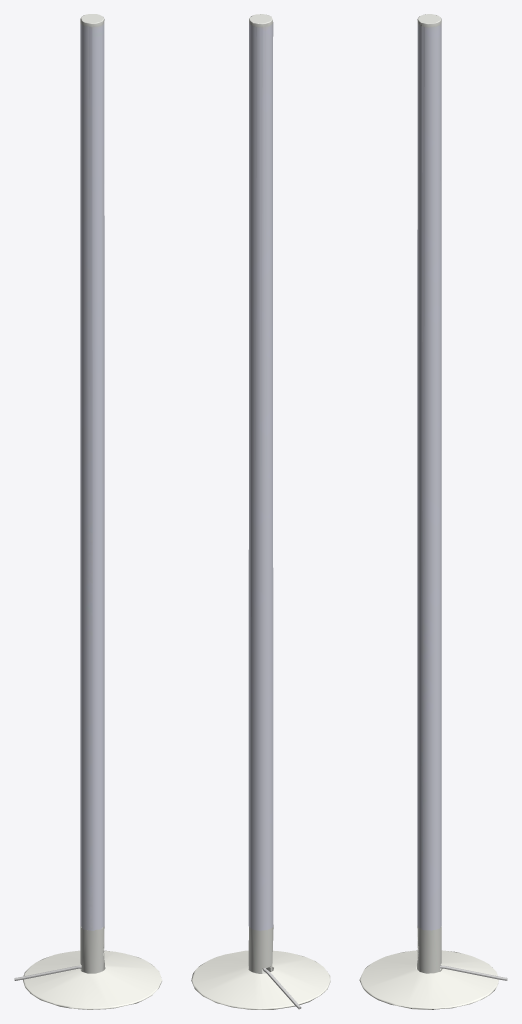
The model's file is forlig_lampa_podogowa_scienna_led_50592354.glb.
The picture shows the model from 3 angles, left to right: view 1: azimuth 90°, elevation 25°; view 2: azimuth 210°, elevation 25°; view 3: azimuth 270°, elevation 25°; orthographic projection.
Visible parts, largest first — view 1: forlig_lampa_podogowa_scienna_led_50592354; view 2: forlig_lampa_podogowa_scienna_led_50592354; view 3: forlig_lampa_podogowa_scienna_led_50592354.
Part boxes in pixels (x1=…): forlig_lampa_podogowa_scienna_led_50592354: x1=14, y1=14, x2=162, y2=1009; forlig_lampa_podogowa_scienna_led_50592354: x1=191, y1=14, x2=330, y2=1009; forlig_lampa_podogowa_scienna_led_50592354: x1=359, y1=14, x2=507, y2=1009.
Bounding box in the file's own units: 0.174 × 1.33 × 0.1854.
2 materials, 2 textured.
